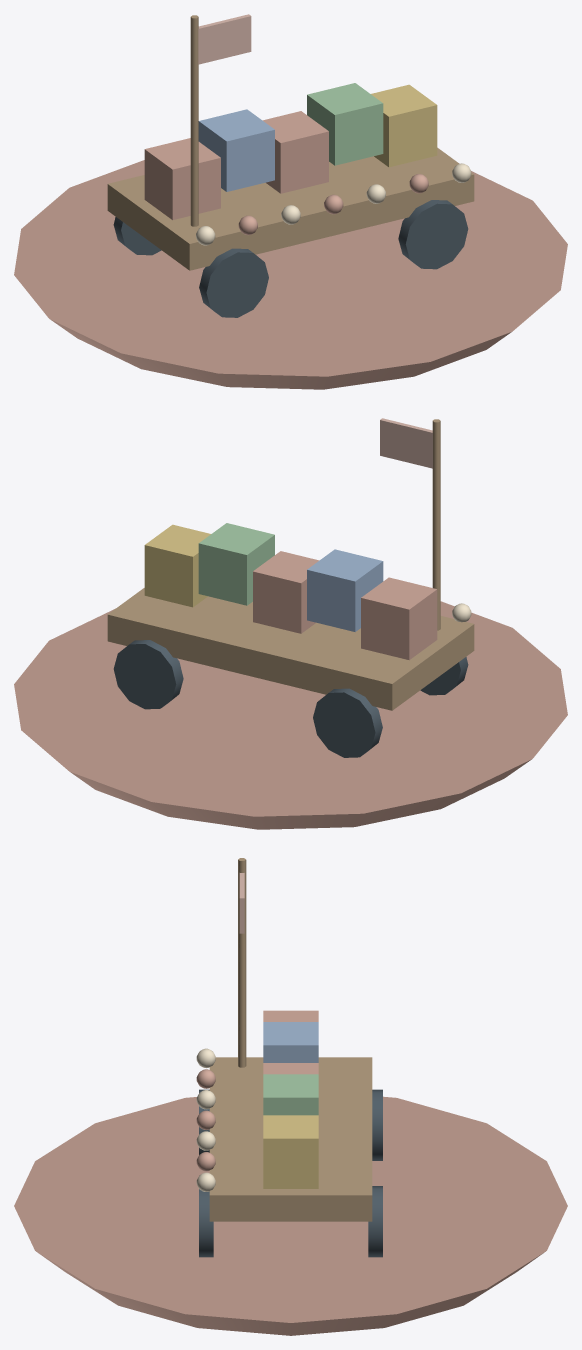
Rendered from party_mg31_parade_float.glb.
3 views of the same model, one above another, from view 1: azimuth 30°, elevation 25°; view 2: azimuth 150°, elevation 25°; view 3: azimuth 270°, elevation 25° (orthographic).
Parts seen in each view (by area): view 1: _MeshInstance3D_188, _MeshInstance3D_189, _MeshInstance3D_194, _MeshInstance3D_197, _MeshInstance3D_195, _MeshInstance3D_198, _MeshInstance3D_196, _MeshInstance3D_191, _MeshInstance3D_193, _MeshInstance3D_200, _MeshInstance3D_199, _MeshInstance3D_190; view 2: _MeshInstance3D_188, _MeshInstance3D_189, _MeshInstance3D_194, _MeshInstance3D_197, _MeshInstance3D_195, _MeshInstance3D_198, _MeshInstance3D_196, _MeshInstance3D_190, _MeshInstance3D_192, _MeshInstance3D_200, _MeshInstance3D_199, _MeshInstance3D_191; view 3: _MeshInstance3D_188, _MeshInstance3D_189, _MeshInstance3D_198, _MeshInstance3D_197, _MeshInstance3D_195, _MeshInstance3D_199, _MeshInstance3D_192, _MeshInstance3D_193, _MeshInstance3D_190, _MeshInstance3D_194, _MeshInstance3D_196.
Part boxes in pixels (x1,y1,x2,y2): _MeshInstance3D_188: [14, 160, 567, 389]; _MeshInstance3D_189: [107, 147, 474, 270]; _MeshInstance3D_194: [144, 138, 220, 220]; _MeshInstance3D_197: [307, 83, 383, 165]; _MeshInstance3D_195: [198, 109, 274, 191]; _MeshInstance3D_198: [371, 84, 437, 167]; _MeshInstance3D_196: [262, 111, 328, 193]; _MeshInstance3D_191: [199, 248, 268, 317]; _MeshInstance3D_193: [398, 200, 468, 269]; _MeshInstance3D_200: [198, 14, 251, 64]; _MeshInstance3D_199: [190, 15, 198, 226]; _MeshInstance3D_190: [113, 217, 161, 255]; _MeshInstance3D_188: [14, 601, 567, 829]; _MeshInstance3D_189: [107, 588, 474, 710]; _MeshInstance3D_194: [361, 577, 437, 660]; _MeshInstance3D_197: [198, 523, 274, 605]; _MeshInstance3D_195: [307, 549, 383, 631]; _MeshInstance3D_198: [144, 524, 210, 607]; _MeshInstance3D_196: [253, 551, 319, 633]; _MeshInstance3D_190: [313, 688, 382, 757]; _MeshInstance3D_192: [113, 640, 183, 709]; _MeshInstance3D_200: [380, 418, 432, 468]; _MeshInstance3D_199: [432, 419, 440, 630]; _MeshInstance3D_191: [420, 657, 468, 695]; _MeshInstance3D_188: [14, 1096, 567, 1335]; _MeshInstance3D_189: [209, 1057, 372, 1221]; _MeshInstance3D_198: [263, 1115, 318, 1188]; _MeshInstance3D_197: [263, 1074, 318, 1115]; _MeshInstance3D_195: [263, 1022, 318, 1062]; _MeshInstance3D_199: [238, 858, 246, 1067]; _MeshInstance3D_192: [368, 1186, 382, 1257]; _MeshInstance3D_193: [199, 1189, 213, 1257]; _MeshInstance3D_190: [372, 1089, 382, 1160]; _MeshInstance3D_194: [263, 1010, 318, 1021]; _MeshInstance3D_196: [263, 1063, 318, 1074].
Bounding box in the file's own units: 3.4 × 2.13 × 3.4.
